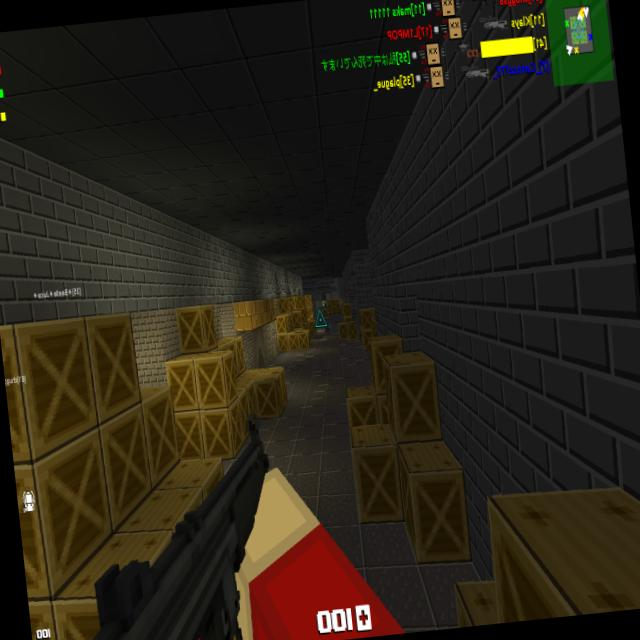enemy: (322, 300, 327, 307)
